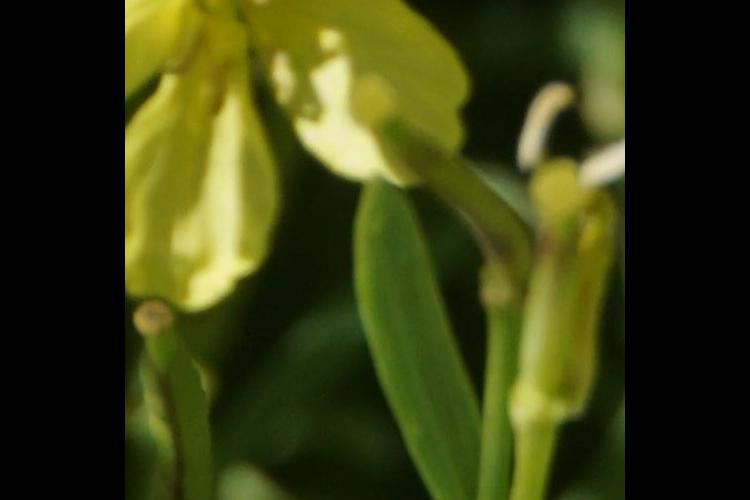pod: (504, 99, 620, 500), (389, 116, 545, 333), (138, 286, 223, 500)
yellow: (145, 1, 463, 274)
